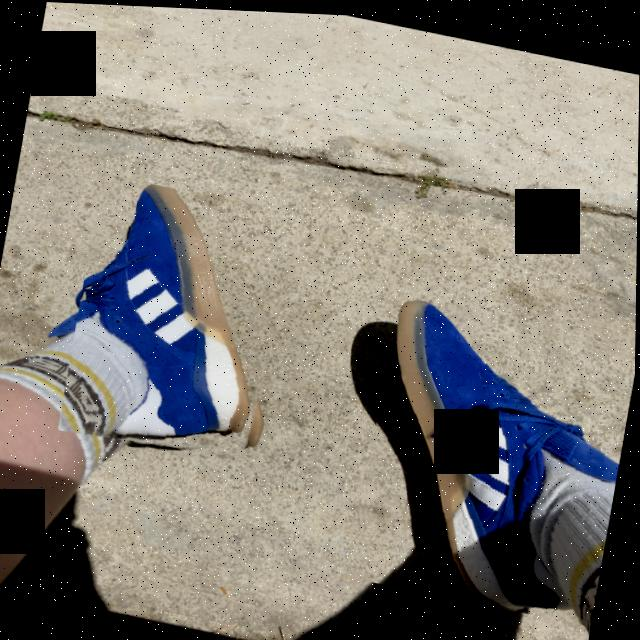shoe: (347, 288, 637, 622), (59, 172, 306, 472)
